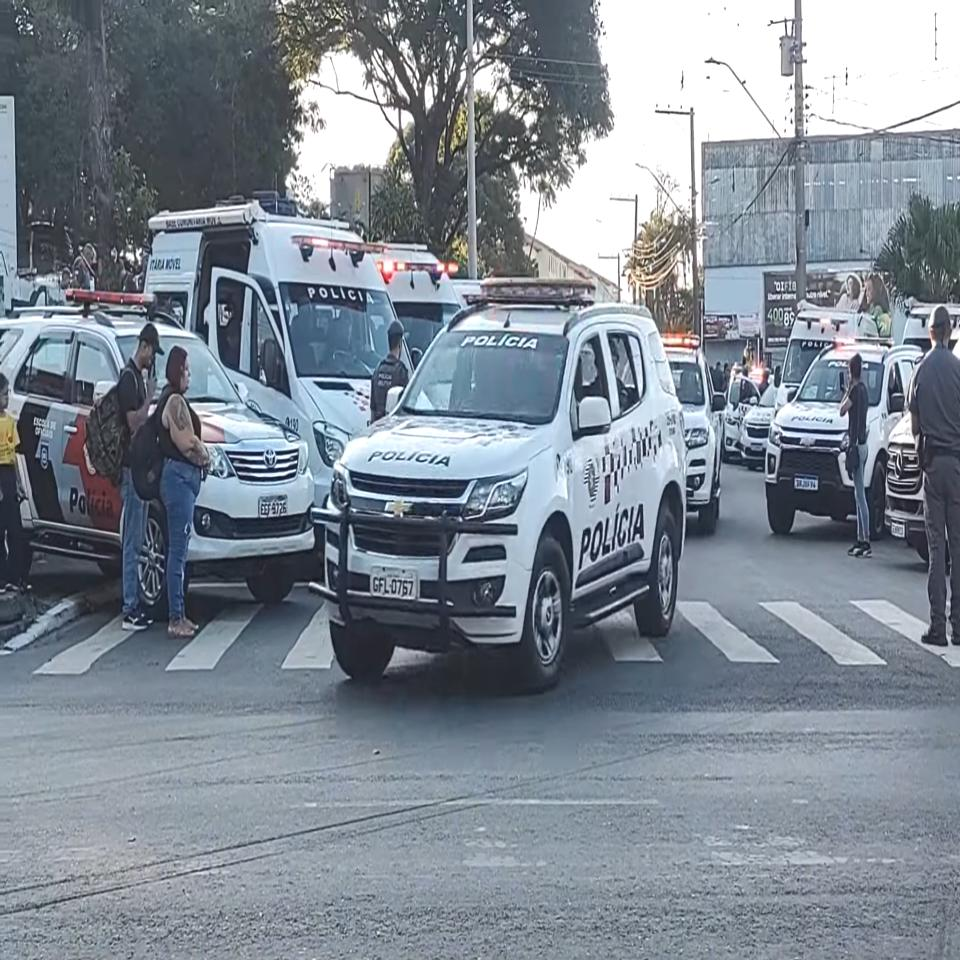viatura: (305, 270, 691, 690)
